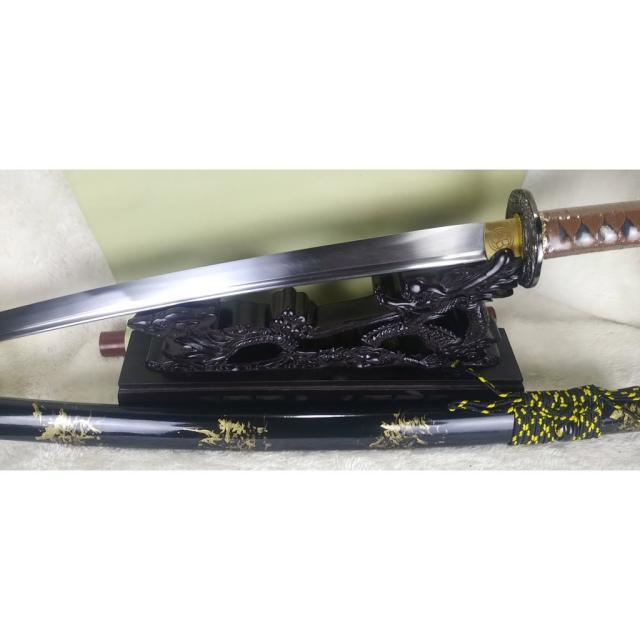long sword: (1, 190, 640, 344)
